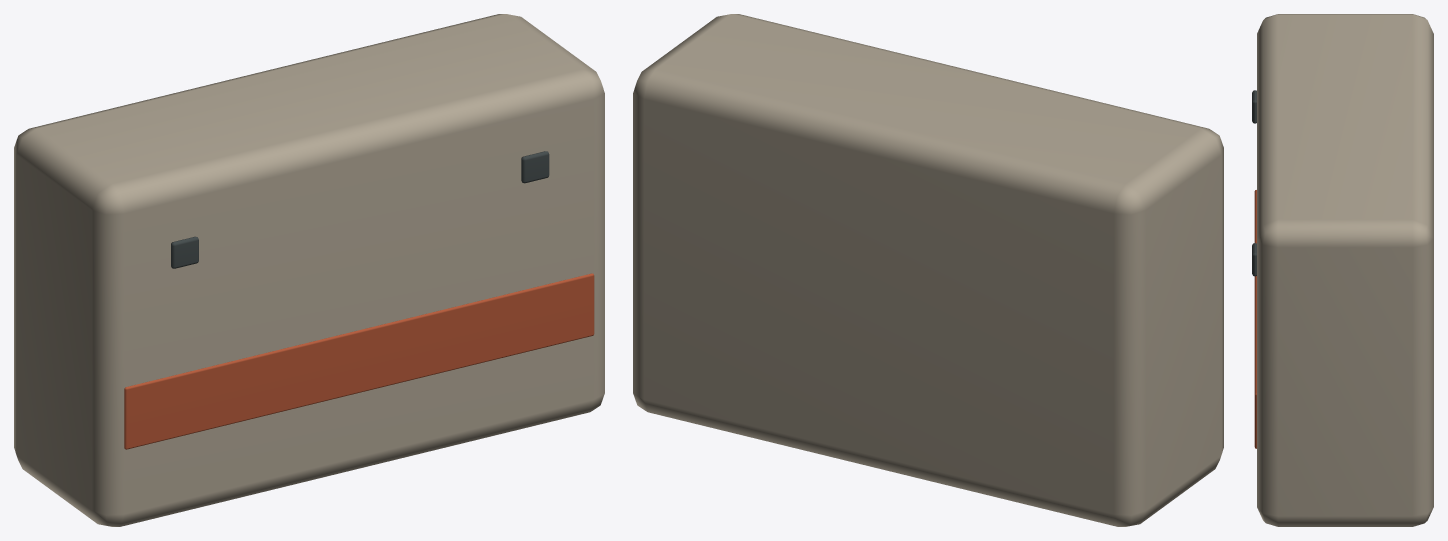
Rendered from wall_panel.glb.
The picture shows the model from 3 angles, left to right: view 1: azimuth 30°, elevation 25°; view 2: azimuth 150°, elevation 25°; view 3: azimuth 270°, elevation 25°; orthographic projection. The views are drawn at different scales.
Parts seen in each view (by area): view 1: Concrete slab, Inset paint, Recess.001, Recess; view 2: Concrete slab; view 3: Concrete slab, Inset paint.
Boxes of the visible parts, x1=… form: Concrete slab: x1=14, y1=14, x2=604, y2=526; Inset paint: x1=124, y1=273, x2=594, y2=449; Recess.001: x1=521, y1=151, x2=549, y2=183; Recess: x1=171, y1=236, x2=198, y2=268; Concrete slab: x1=633, y1=14, x2=1223, y2=526; Concrete slab: x1=1257, y1=14, x2=1433, y2=526; Inset paint: x1=1254, y1=190, x2=1256, y2=448.
Bounding box in the file's own units: 1.37 × 0.88 × 0.4725.
